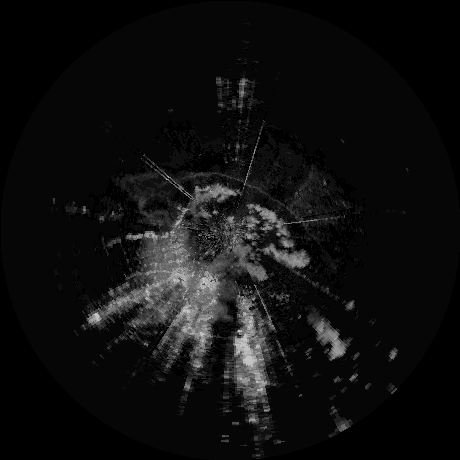frontgust: (178, 171, 313, 230)
